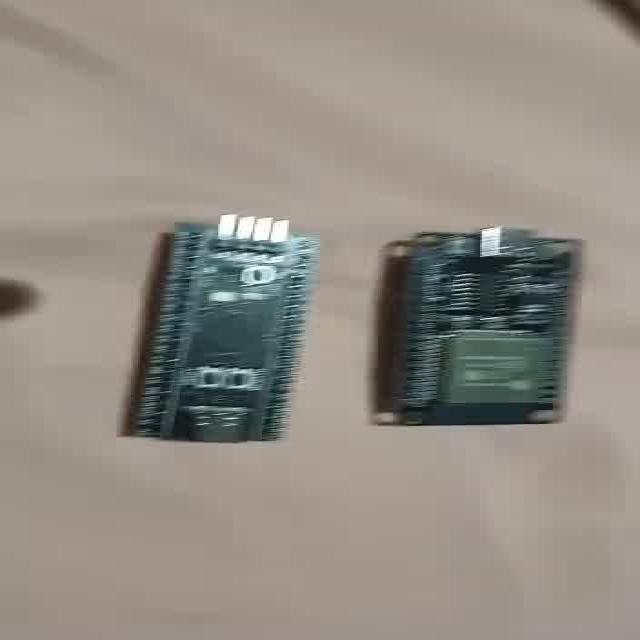ESP32: (396, 227, 579, 425)
STM32: (123, 215, 319, 443)
